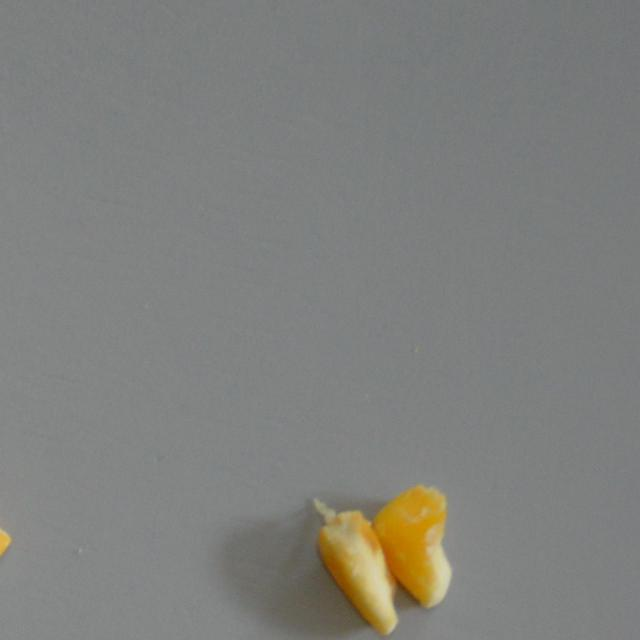dañado: (304, 492, 400, 639), (370, 478, 460, 616), (0, 480, 16, 580)
